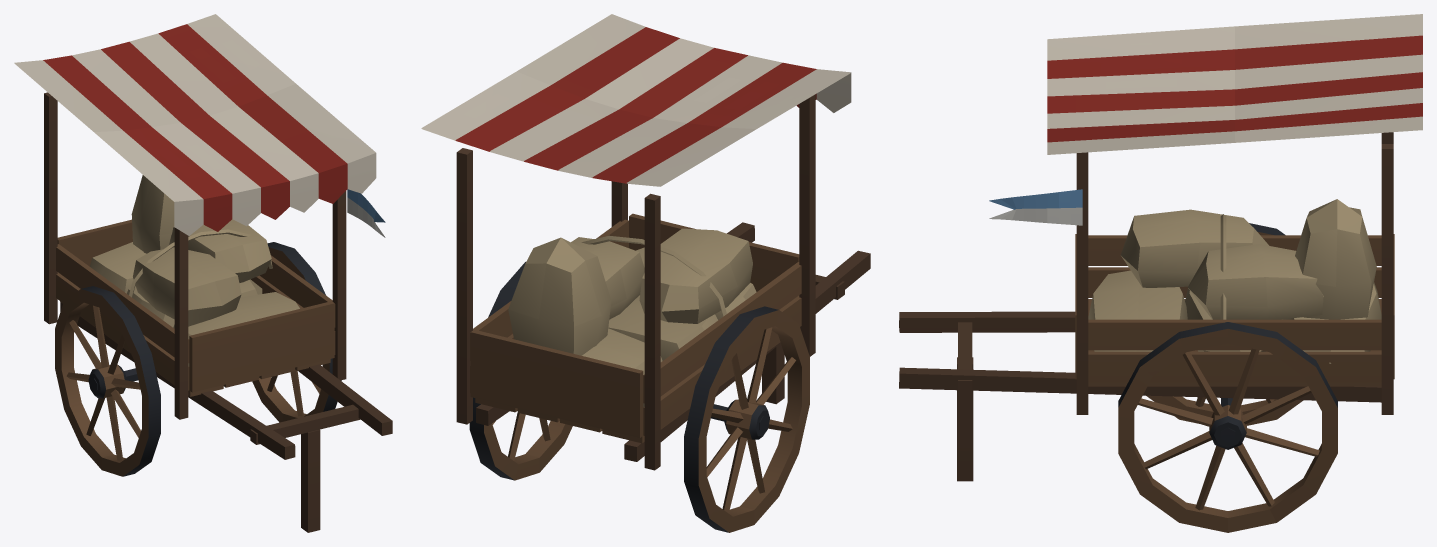
Rendered from cart.glb.
The picture shows the model from 3 angles, left to right: view 1: azimuth 30°, elevation 25°; view 2: azimuth 150°, elevation 25°; view 3: azimuth 270°, elevation 25°; orthographic projection. The views are drawn at different scales.
Visible parts, largest first — view 1: isl_cart; view 2: isl_cart; view 3: isl_cart.
Part boxes in pixels (x1=…): isl_cart: x1=14, y1=14, x2=392, y2=532; isl_cart: x1=421, y1=14, x2=870, y2=532; isl_cart: x1=899, y1=14, x2=1422, y2=532.
Size of the model in its own units: 1.2 by 1.91 by 2.23.
